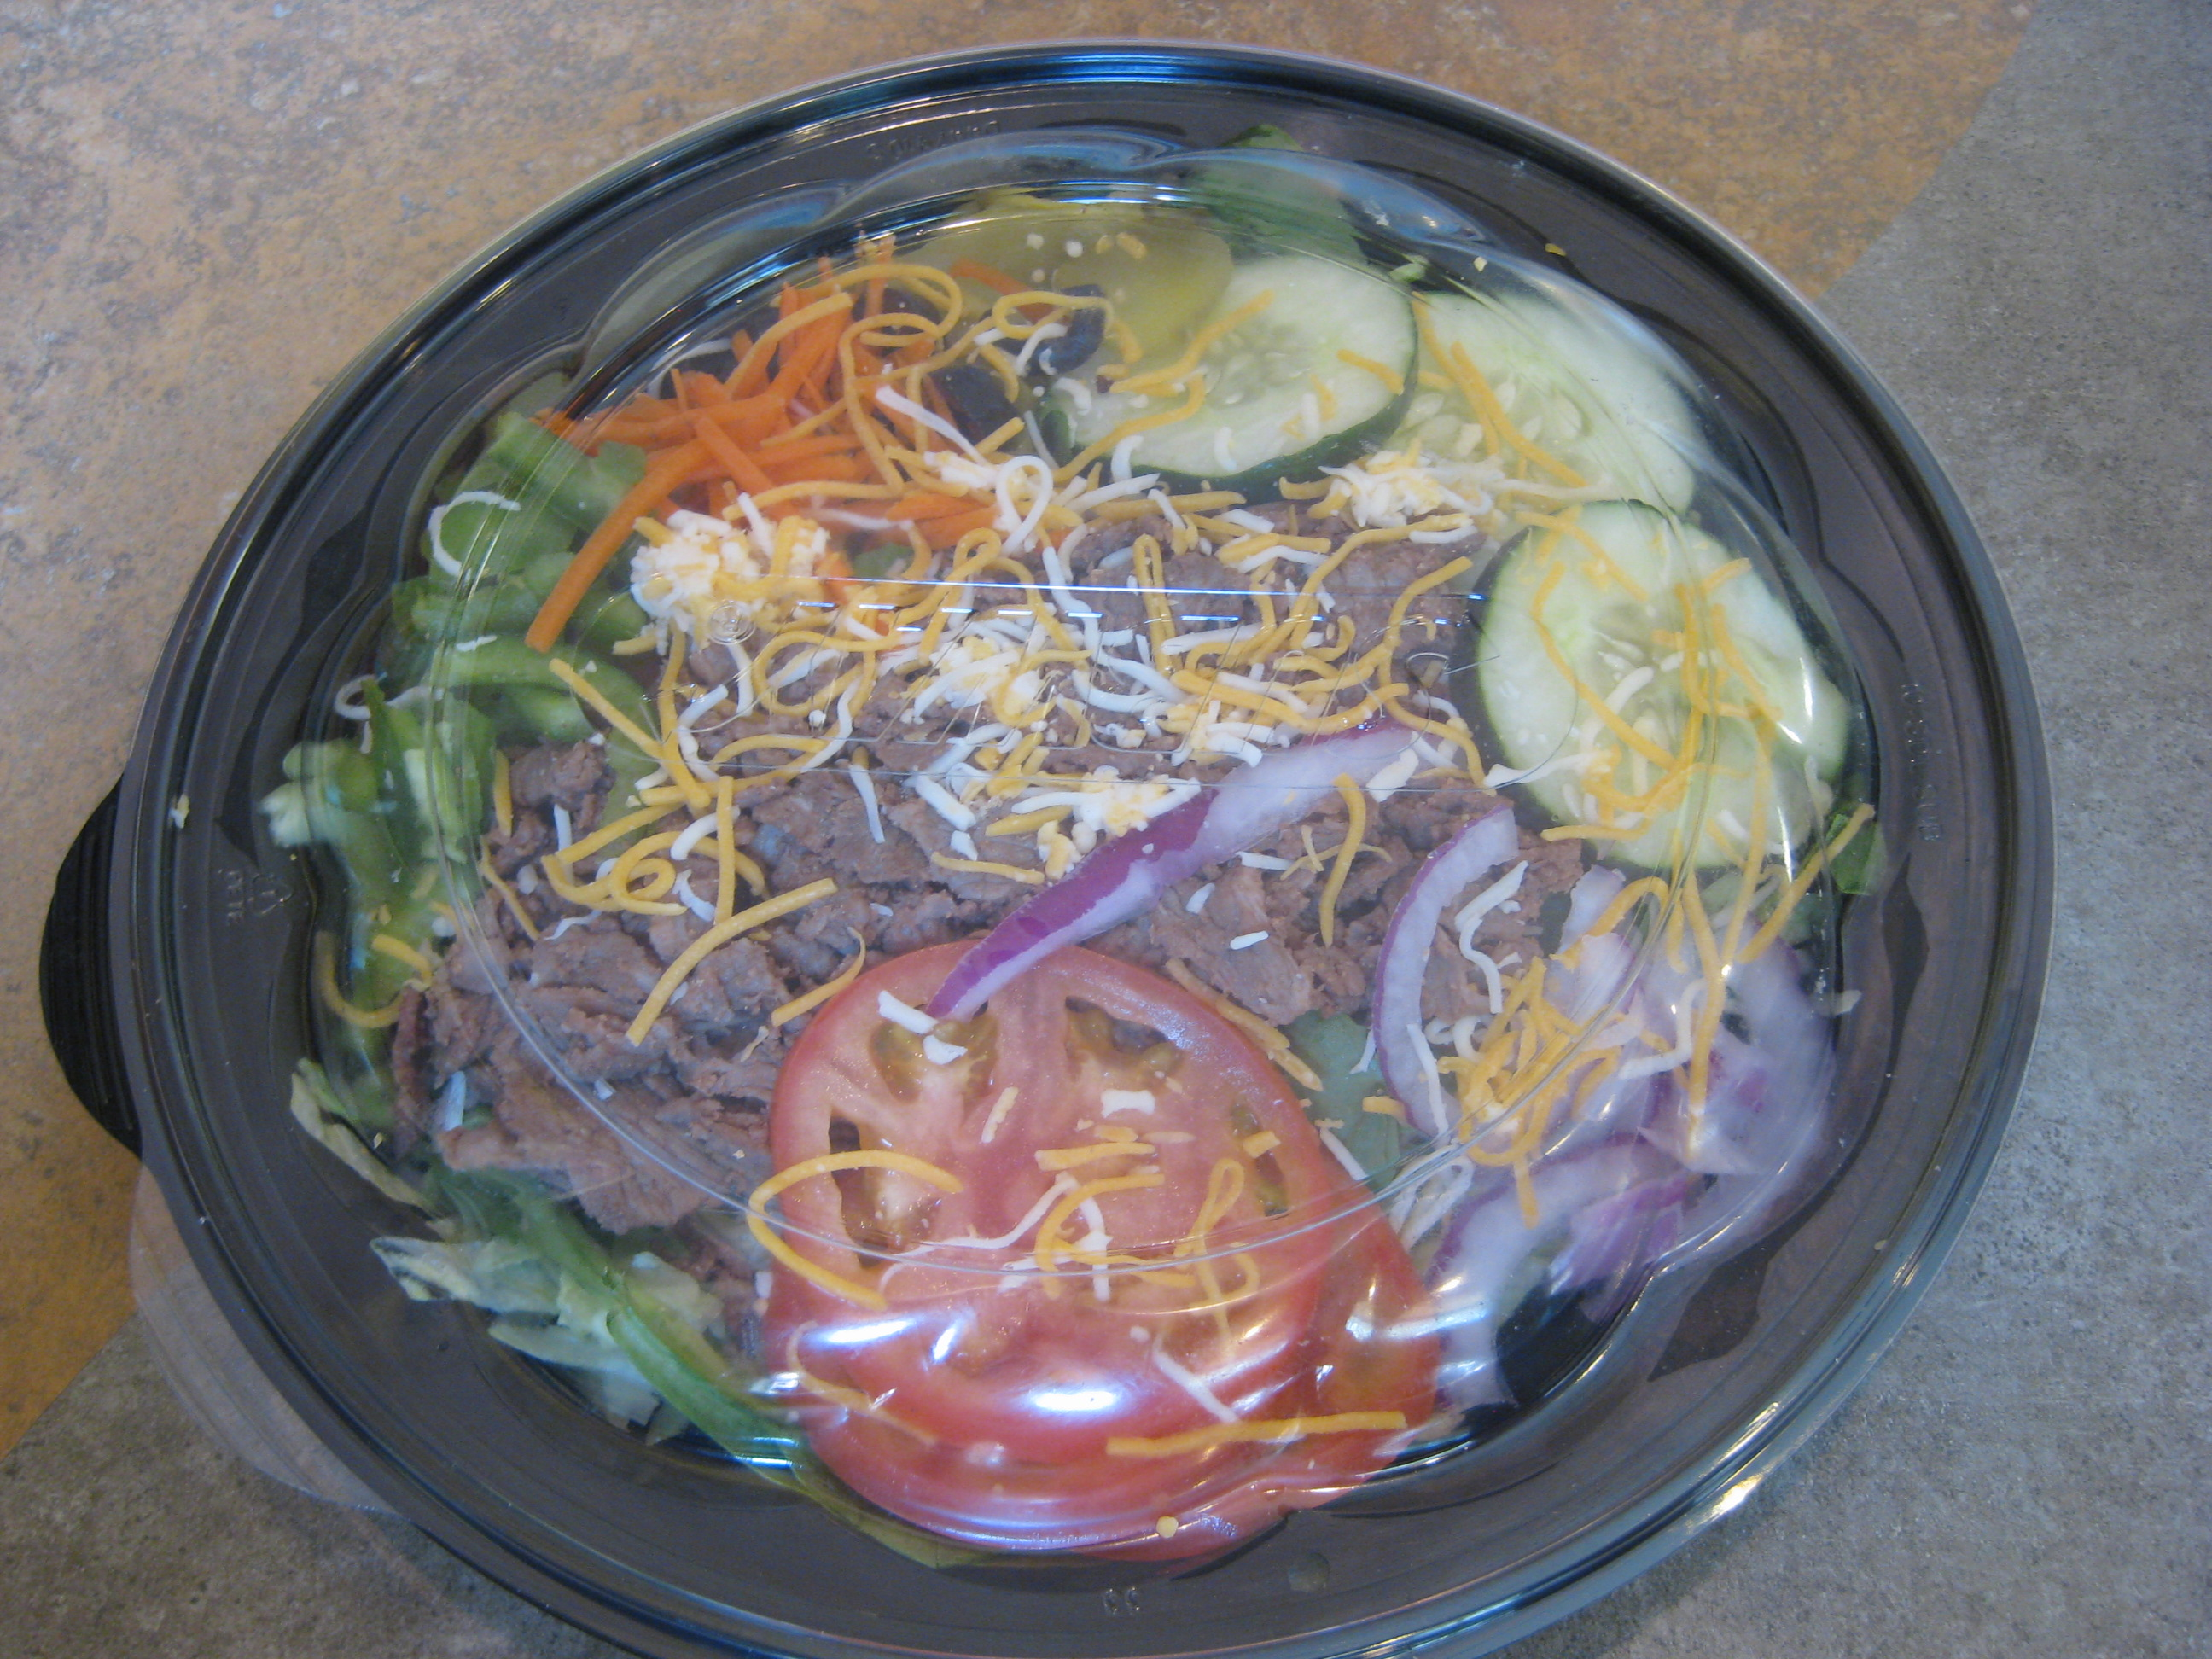salad: (317, 183, 1980, 1543)
